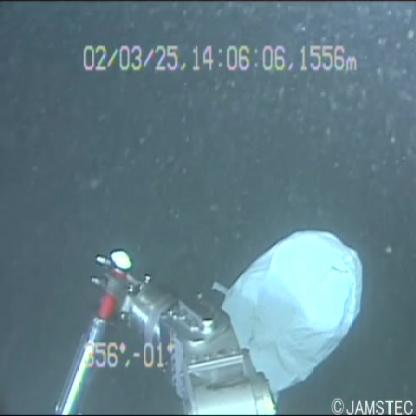Rov: (51, 240, 279, 416)
Rác: (213, 220, 367, 392)
